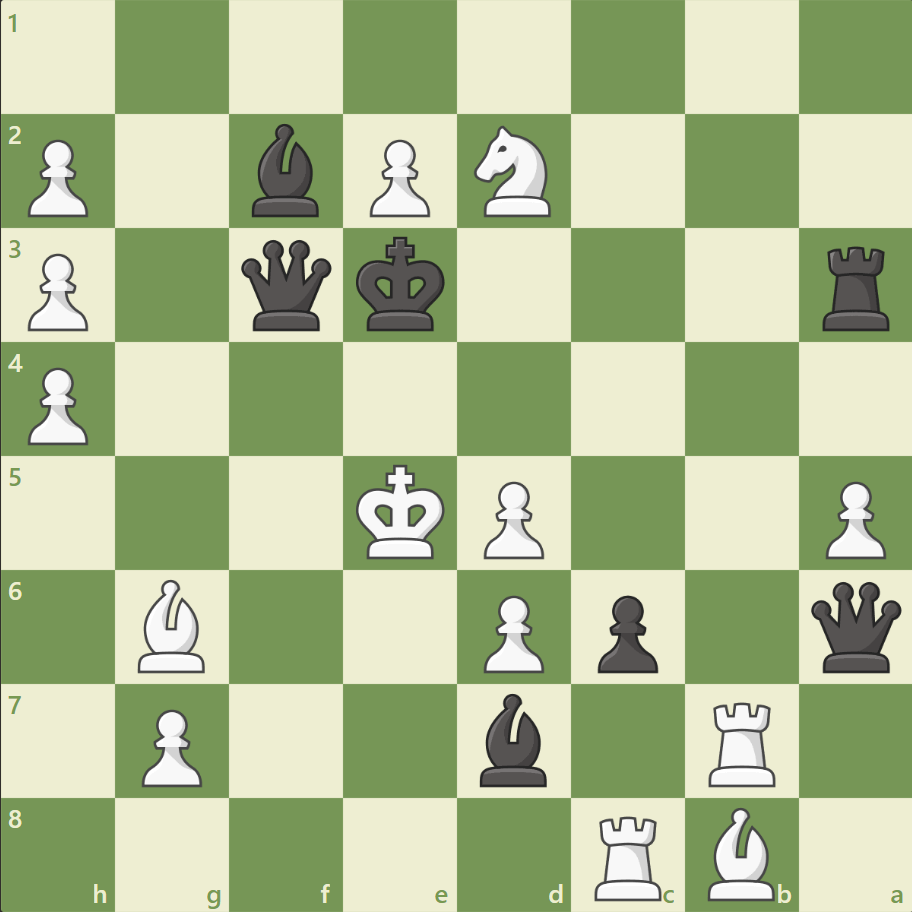B: (698, 801, 782, 904), (131, 574, 215, 676)
K: (351, 458, 451, 566)
N: (465, 121, 562, 223)
P: (133, 700, 208, 791), (474, 586, 549, 677), (474, 473, 549, 564), (20, 359, 95, 450), (20, 246, 95, 337), (20, 132, 95, 223), (815, 473, 889, 564), (361, 132, 435, 223)
R: (587, 806, 670, 904), (700, 693, 783, 790)
b: (471, 687, 555, 790), (244, 120, 328, 222)
k: (351, 231, 451, 339)
p: (588, 586, 662, 677)
q: (805, 576, 904, 676), (237, 236, 336, 335)
r: (814, 239, 897, 336)
